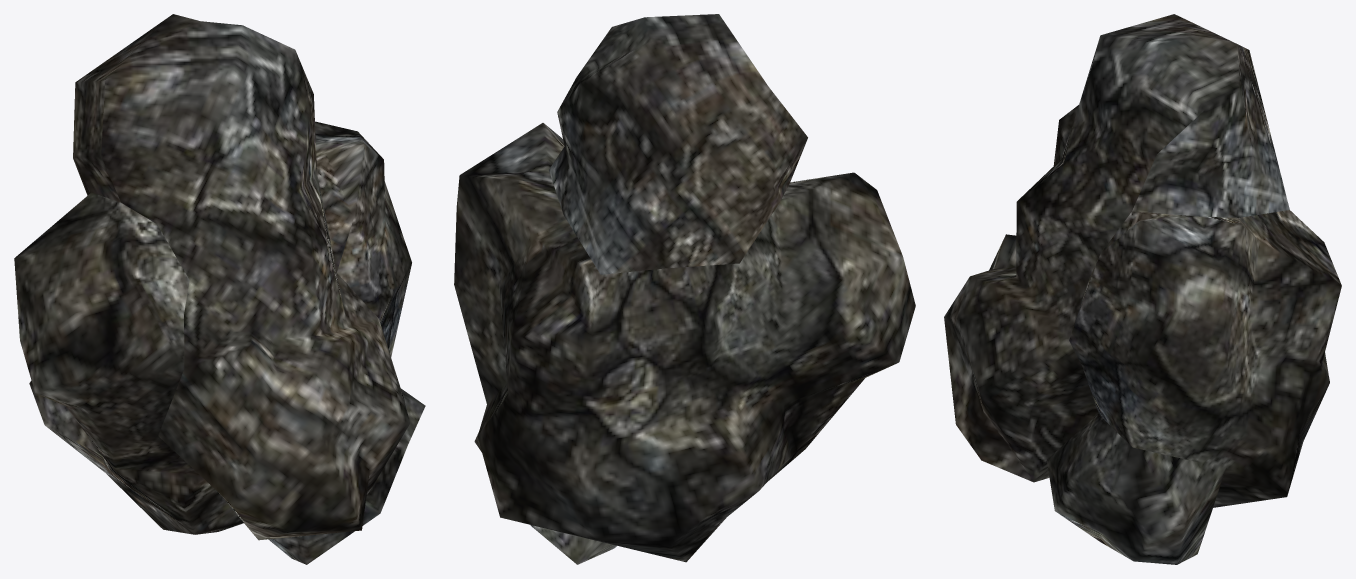
Rendered from Rock9.fbx.
3 renders of one model, left to right at view 1: azimuth 30°, elevation 25°; view 2: azimuth 150°, elevation 25°; view 3: azimuth 270°, elevation 25°, orthographic. The views are drawn at different scales.
Visible parts, largest first — view 1: Rock9; view 2: Rock9; view 3: Rock9.
Boxes of the visible parts, x1,y1,x2,y2 form: Rock9: (14,14,425,564); Rock9: (454,14,915,564); Rock9: (944,14,1341,564).
Bounding box in the file's own units: 12.42 × 16.17 × 11.8.
